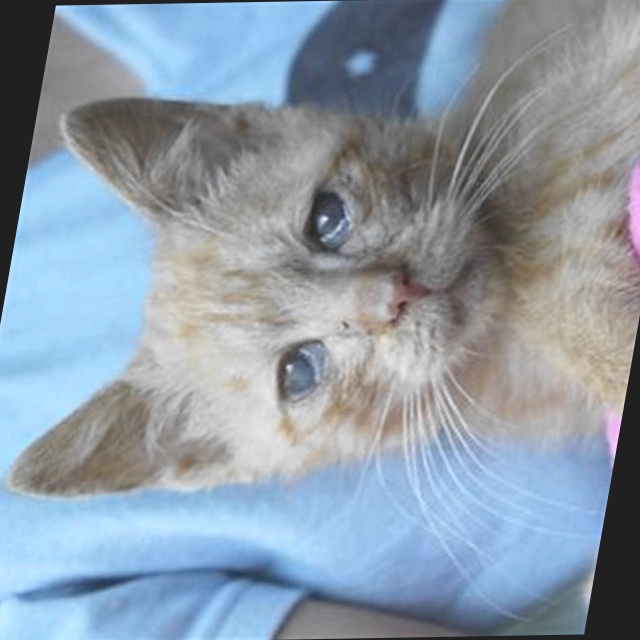eye_infection: (294, 171, 364, 253), (263, 341, 333, 410)
